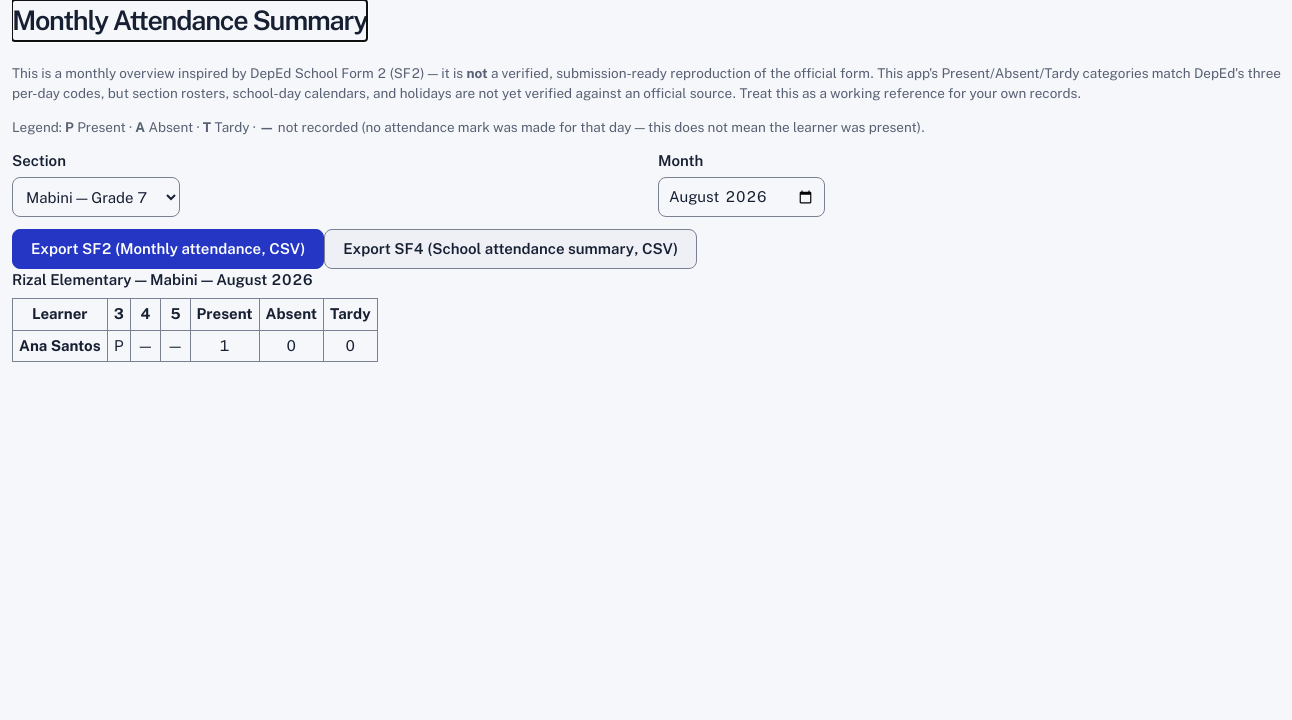
Test: MonthlySummaryScreen › exports SF4 for the whole school and shows the saved path plus disclosure
Expected: the column heading "Ana Santos" is shown, [12,330,107,362]
Click the button "Export SF4 (School attendance summary, CSV)": x=511, y=249 [324,229,697,269]
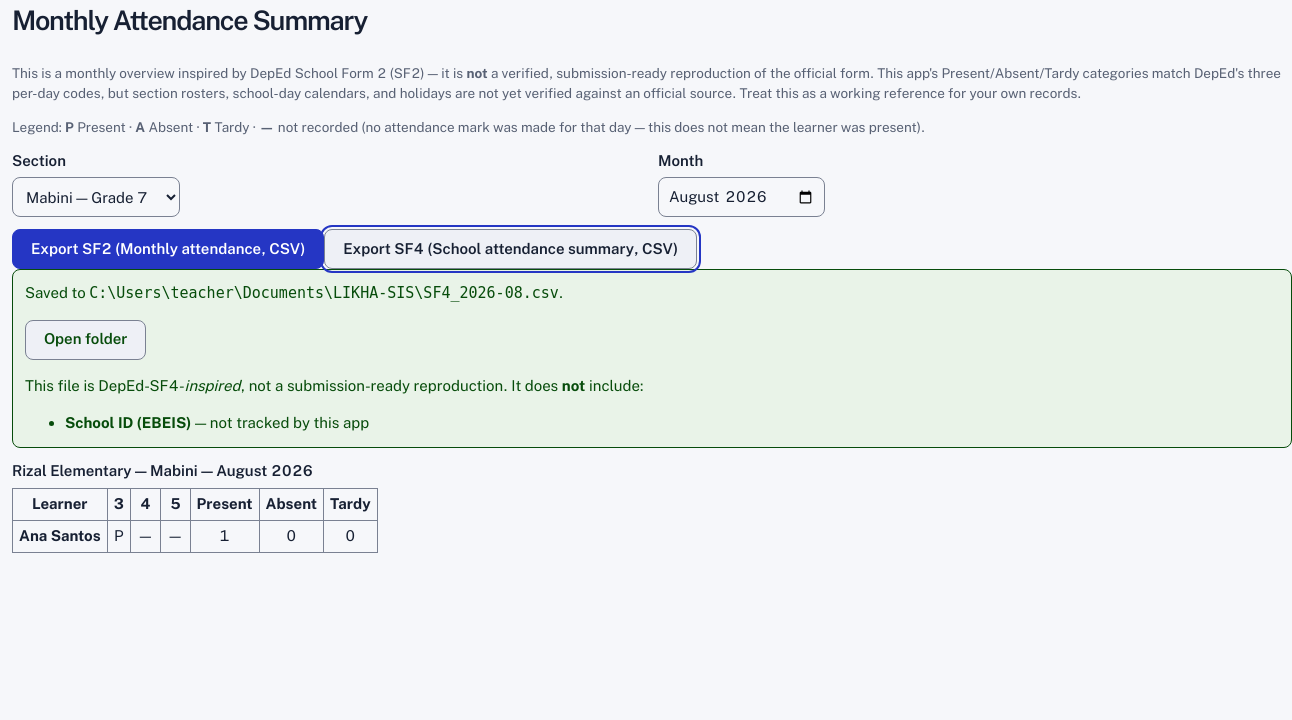
Expected: the text "C:\\Users\\teacher\\Documents\\LIKHA-SIS\\SF4_2026-08.csv" is shown, [89,284,559,302]
